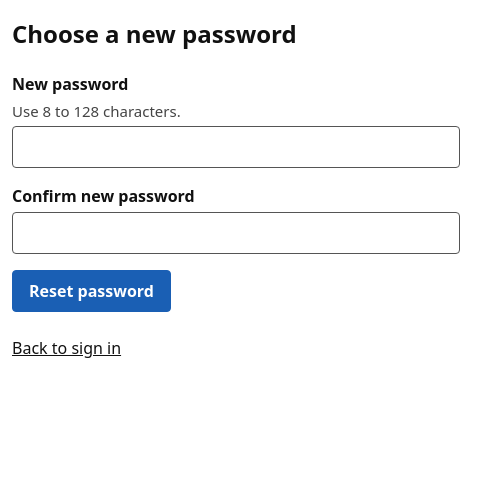
ResetPasswordPage — submission › success: token sent only to the wrapper's body, forgotten, session re-checked, then sign-in with a notice
Type "a brand new password" into the password field labelled "New password" at point(236, 147), box [12, 126, 460, 168]
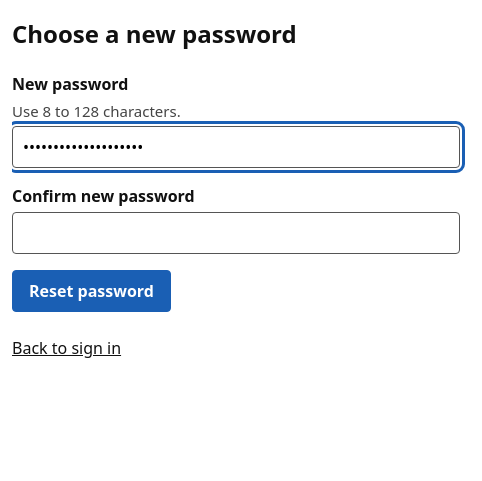
Type "a brand new password" into the password field labelled "Confirm new password" at point(236, 233), box [12, 212, 460, 254]
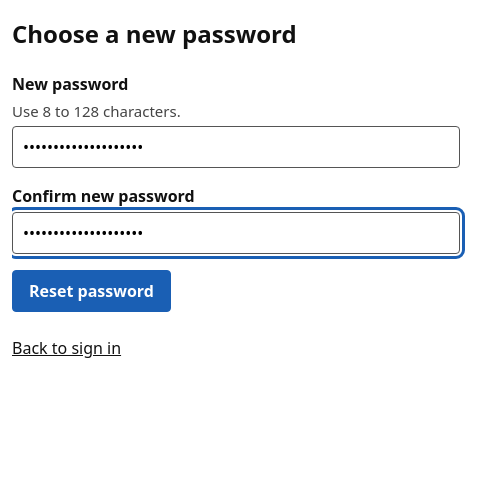
Click the button "Reset password" at point(91, 291), box [12, 270, 171, 312]
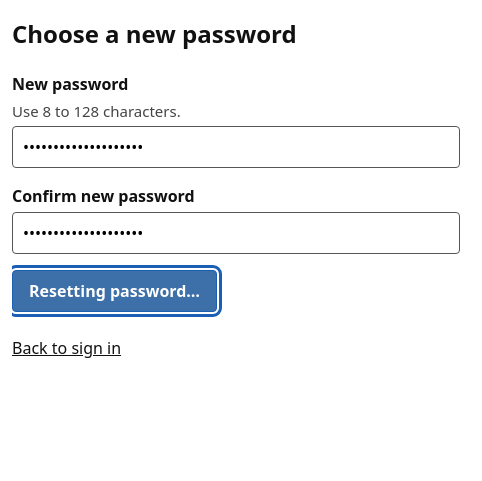
Expected: the button "Resetting password…" is shown
Click the button "Resetting password…" at point(114, 291), box [12, 270, 217, 312]
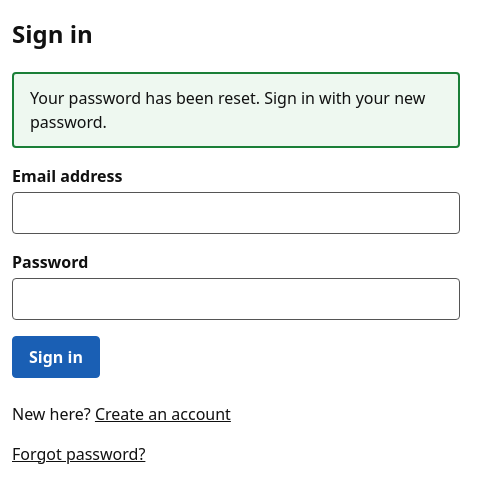
Expected: the heading "Sign in" is shown, [12, 17, 93, 50]
Expected: the message reads "Your password has been reset. Sign in with your new password.", [30, 87, 425, 133]
